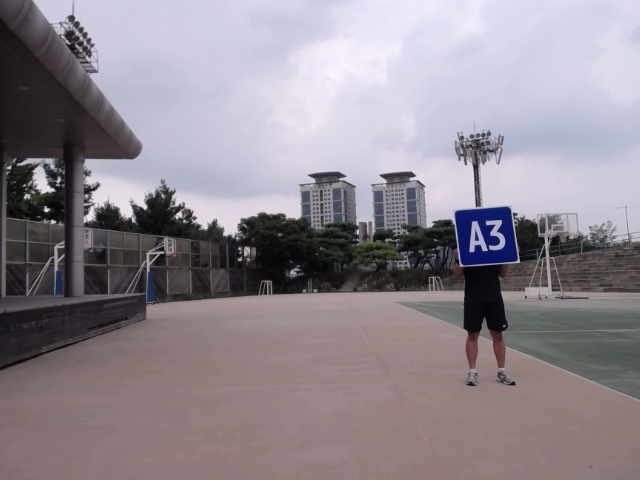delivery_a3: (454, 206, 519, 266)
